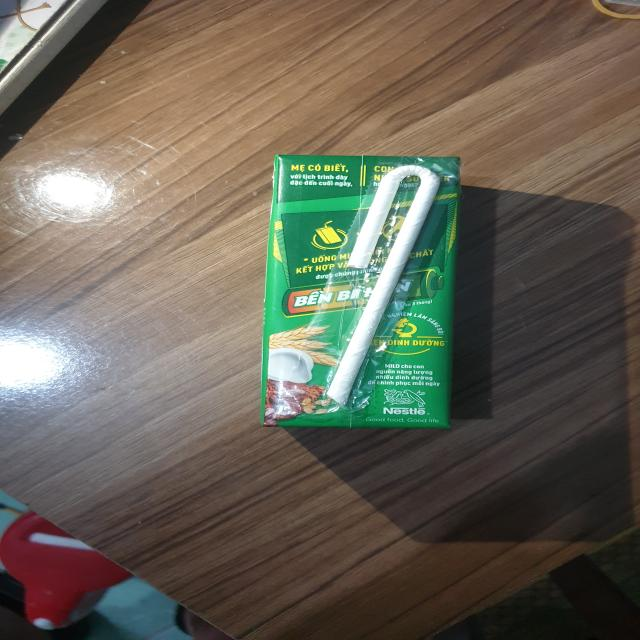Milo: (261, 153, 475, 428)
